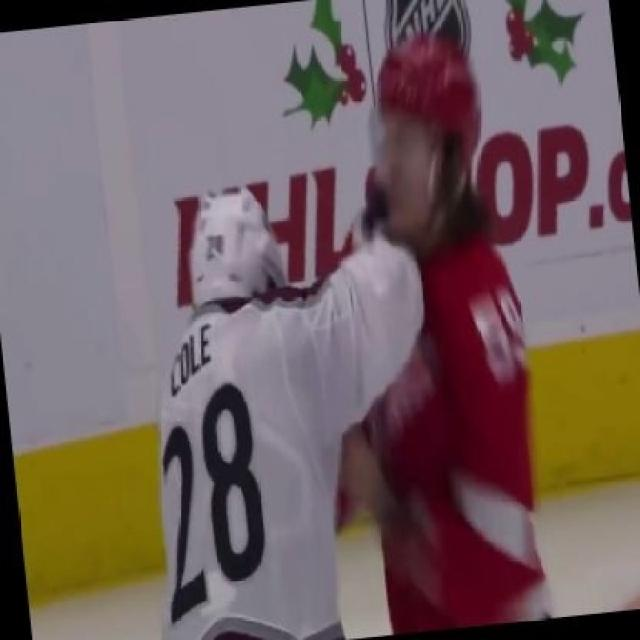fight: (142, 25, 583, 637)
